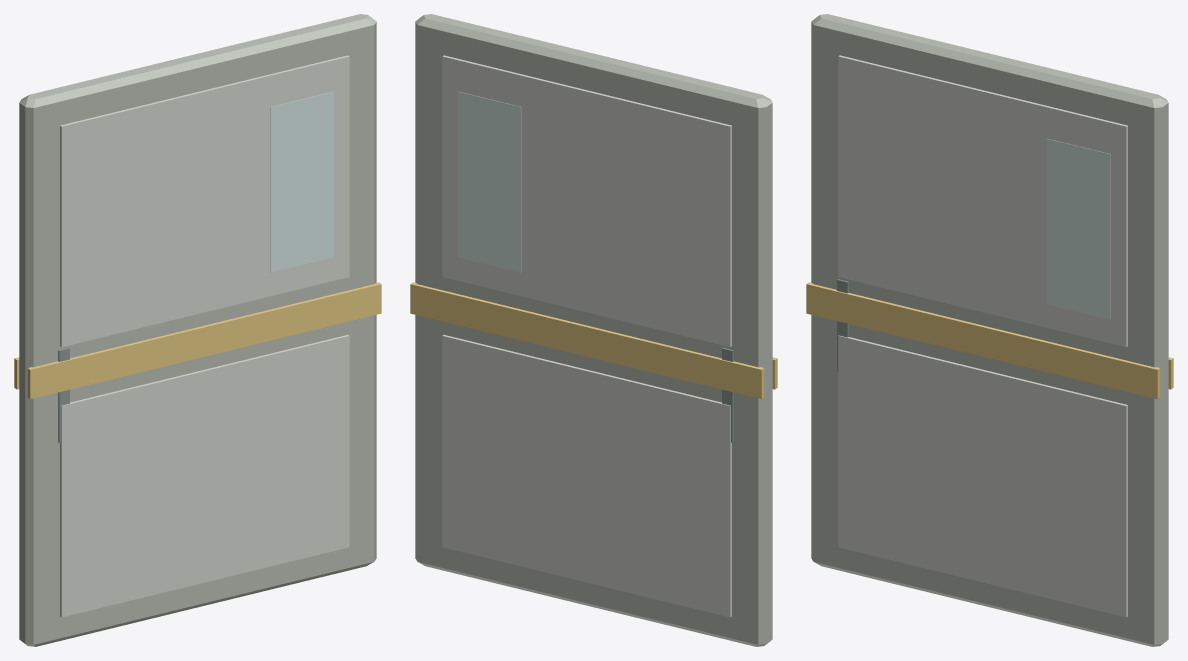
File: lab_door_leaf.glb
3 renders of one model, left to right at view 1: azimuth 30°, elevation 25°; view 2: azimuth 150°, elevation 25°; view 3: azimuth 330°, elevation 25°, orthographic.
Parts seen in each view (by area): view 1: lab_door_leaf; view 2: lab_door_leaf; view 3: lab_door_leaf.
Boxes of the visible parts, x1,y1,x2,y2 form: lab_door_leaf: (14,14,381,646); lab_door_leaf: (410,14,777,646); lab_door_leaf: (806,14,1173,646).
Size of the model in its own units: 2 by 2.98 by 0.155.
